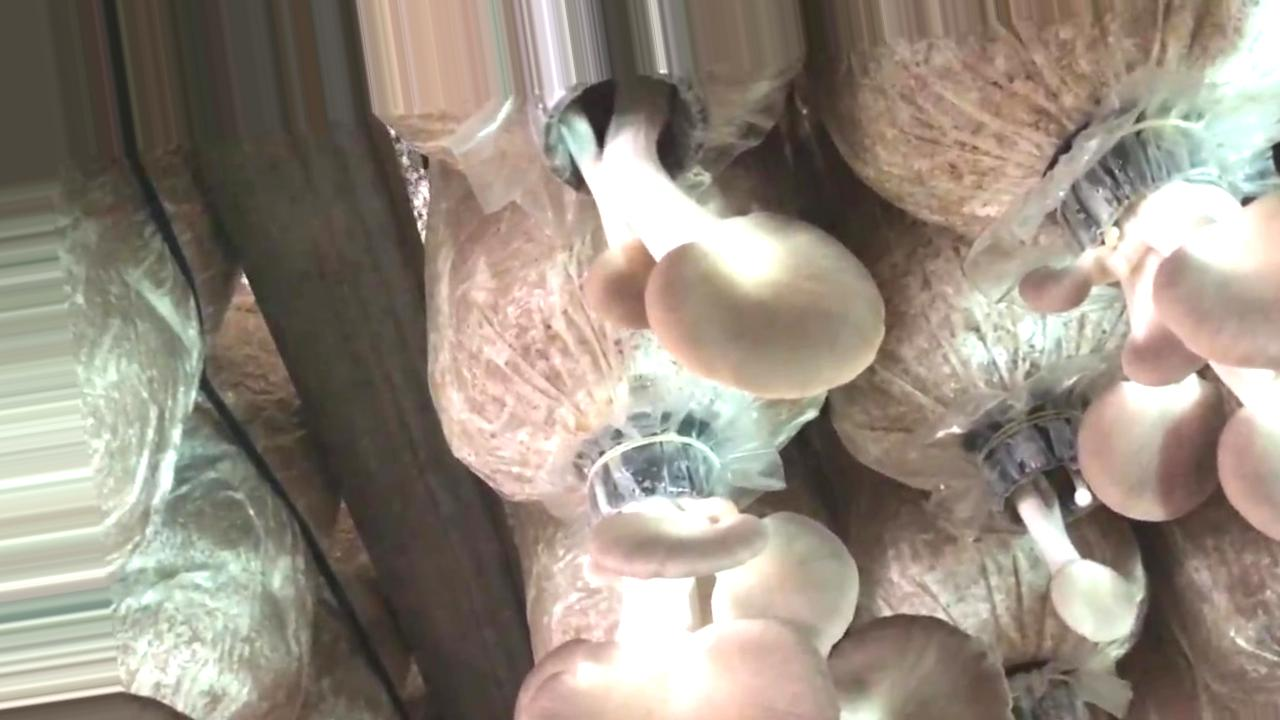nam: (516, 444, 1005, 716), (551, 80, 883, 398), (1020, 128, 1280, 533), (988, 420, 1137, 641)
